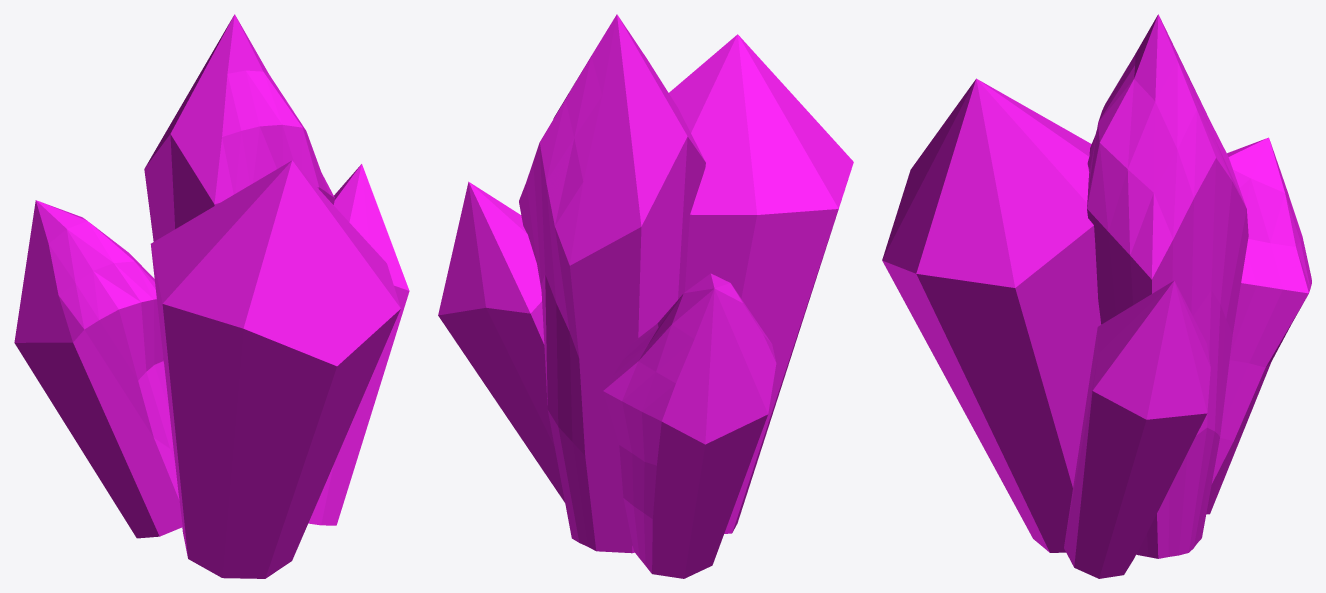
The model's file is crystal cluster.gltf.
The picture shows the model from 3 angles, left to right: view 1: azimuth 30°, elevation 25°; view 2: azimuth 150°, elevation 25°; view 3: azimuth 270°, elevation 25°; orthographic projection. The views are drawn at different scales.
Visible parts, largest first — view 1: Cylinder, Cylinder.002, Cylinder.003, Cylinder.001; view 2: Cylinder.003, Cylinder, Cylinder.002, Cylinder.001; view 3: Cylinder, Cylinder.003, Cylinder.001, Cylinder.002.
Part boxes in pixels (<box>): Cylinder: <box>150,160,400,578</box>; Cylinder.002: <box>14,200,182,538</box>; Cylinder.003: <box>144,14,334,241</box>; Cylinder.001: <box>308,164,409,525</box>; Cylinder.003: <box>519,14,705,553</box>; Cylinder: <box>669,34,853,533</box>; Cylinder.002: <box>603,273,776,578</box>; Cylinder.001: <box>438,181,564,502</box>; Cylinder: <box>882,78,1101,552</box>; Cylinder.003: <box>1087,14,1248,558</box>; Cylinder.001: <box>1064,280,1210,578</box>; Cylinder.002: <box>1206,137,1311,514</box>.
Bounding box in the file's own units: 3.99 × 5.73 × 4.14.
